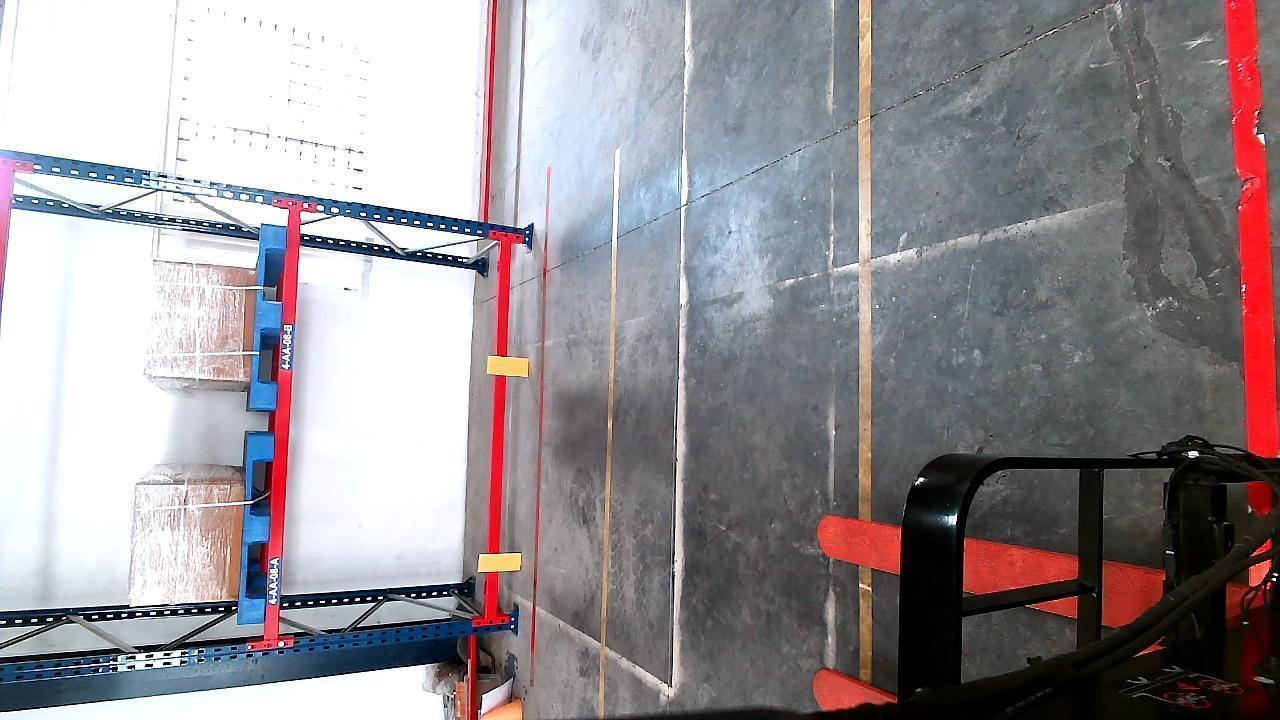red_line: (526, 160, 549, 689)
yellow_line: (595, 163, 625, 720), (854, 0, 877, 685)
